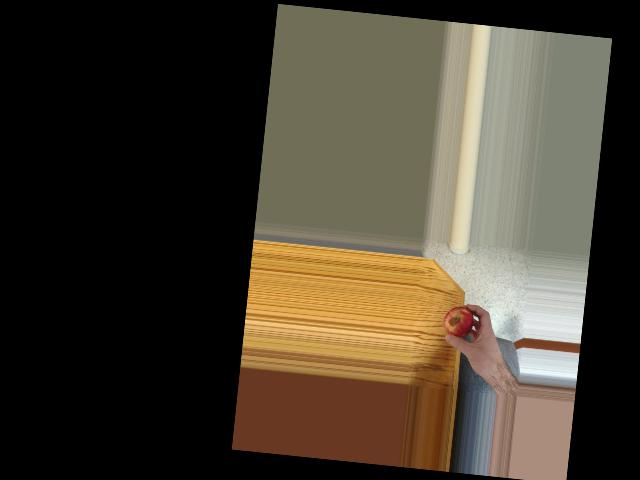apple: (441, 303, 475, 342)
